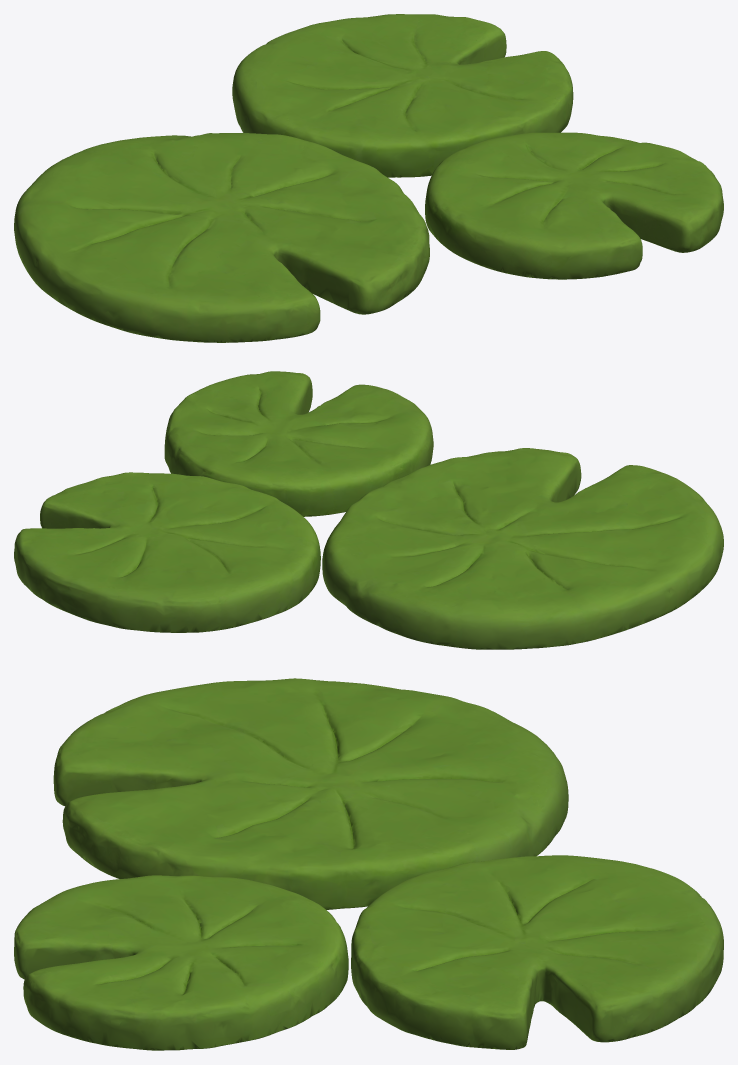
Rendered from lily-pads.glb.
The picture shows the model from 3 angles, top to bottom: view 1: azimuth 30°, elevation 25°; view 2: azimuth 150°, elevation 25°; view 3: azimuth 270°, elevation 25°; orthographic projection. The views are drawn at different scales.
Bounding box in the file's own units: 1.9 × 0.1121 × 1.67.
1 material, 1 textured.
